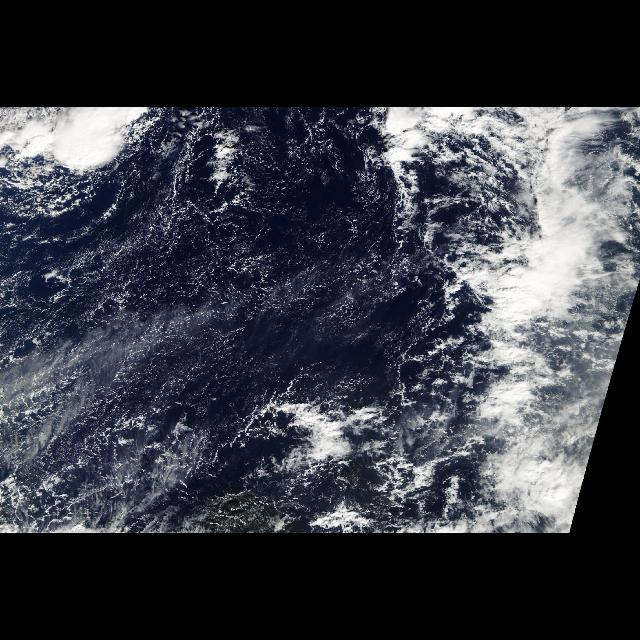Gravel: (6, 161, 422, 533)
Sugar: (6, 202, 396, 406)
